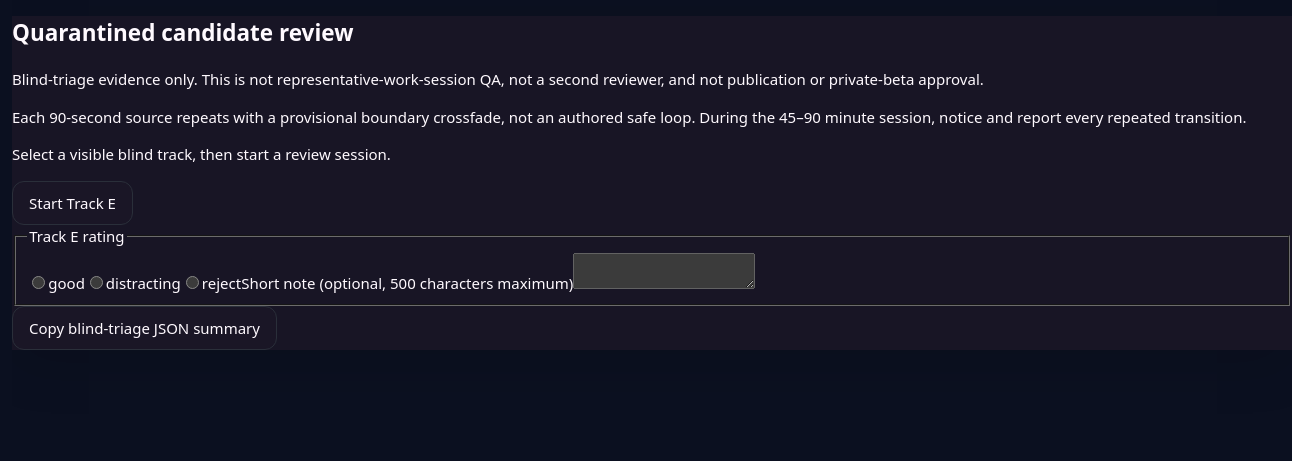
Test: keeps JSON visible with a clear message when copying fails
Step 1. Click the button "Copy blind-triage JSON summary" → (144, 328), box [12,306,277,350]
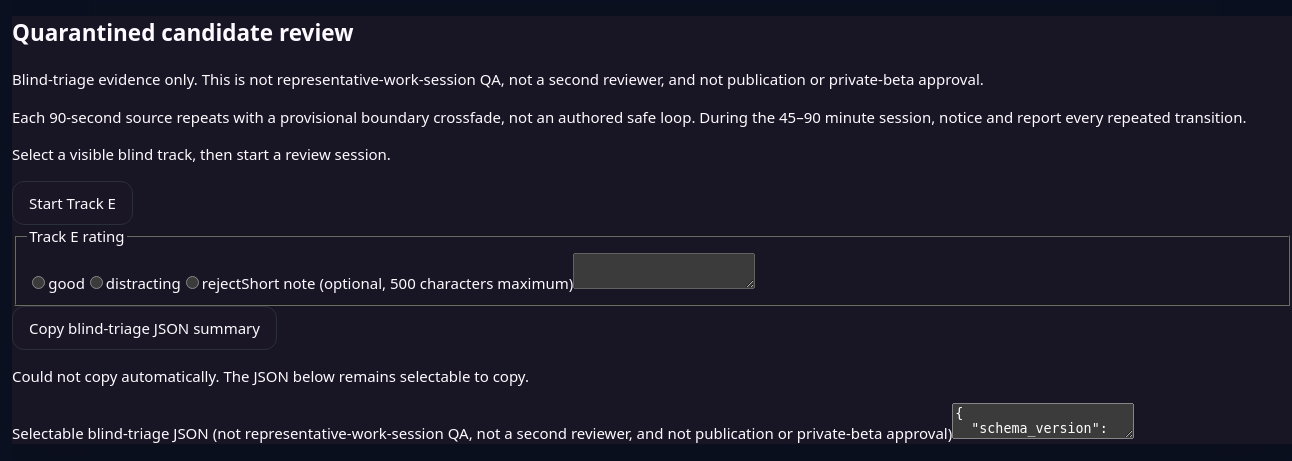
Expected: the text "Could not copy automatically" is shown, [12,366,529,386]
Expected: the text box labelled "Selectable blind-triage JSON" is shown, [952,403,1134,439]
